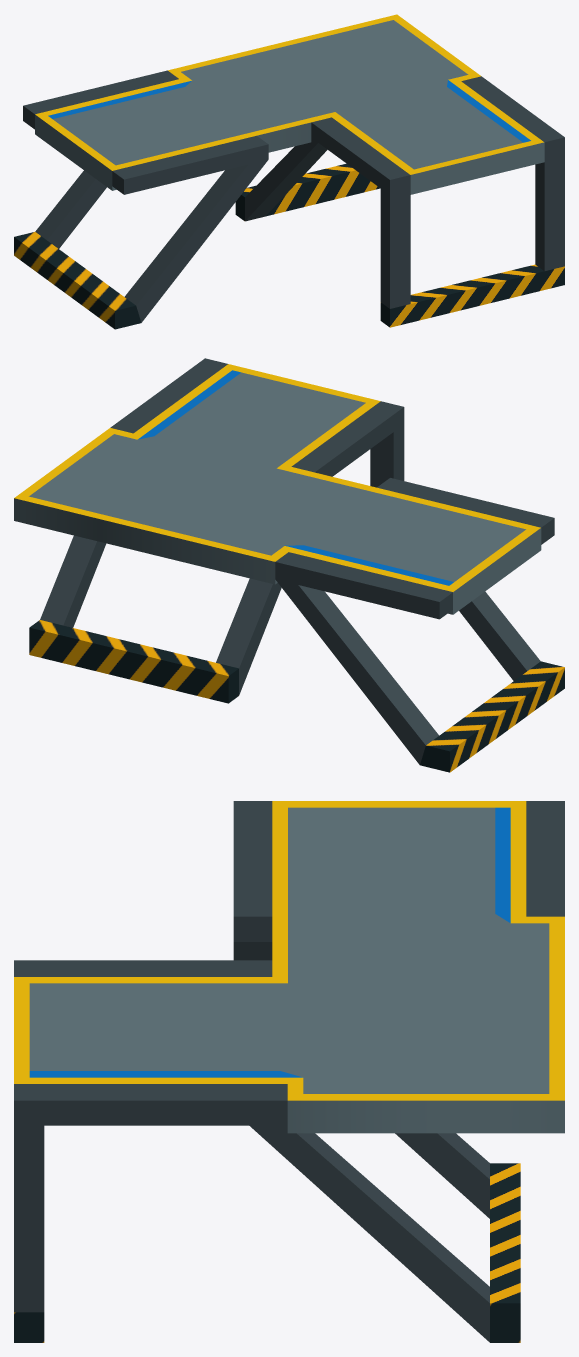
Rendered from Desk_009.glb.
The picture shows the model from 3 angles, top to bottom: view 1: azimuth 30°, elevation 25°; view 2: azimuth 150°, elevation 25°; view 3: azimuth 270°, elevation 25°; orthographic projection. The views are drawn at different scales.
Visible parts, largest first — view 1: Desk_009; view 2: Desk_009; view 3: Desk_009.
Boxes of the visible parts, box(x1,y1,x2,y2) form: Desk_009: box(14, 14, 564, 329); Desk_009: box(14, 358, 564, 772); Desk_009: box(14, 801, 564, 1342).
Size of the model in its own units: 2.3 by 0.8483 by 1.75.
Materials: 2 (2 with a texture image).
